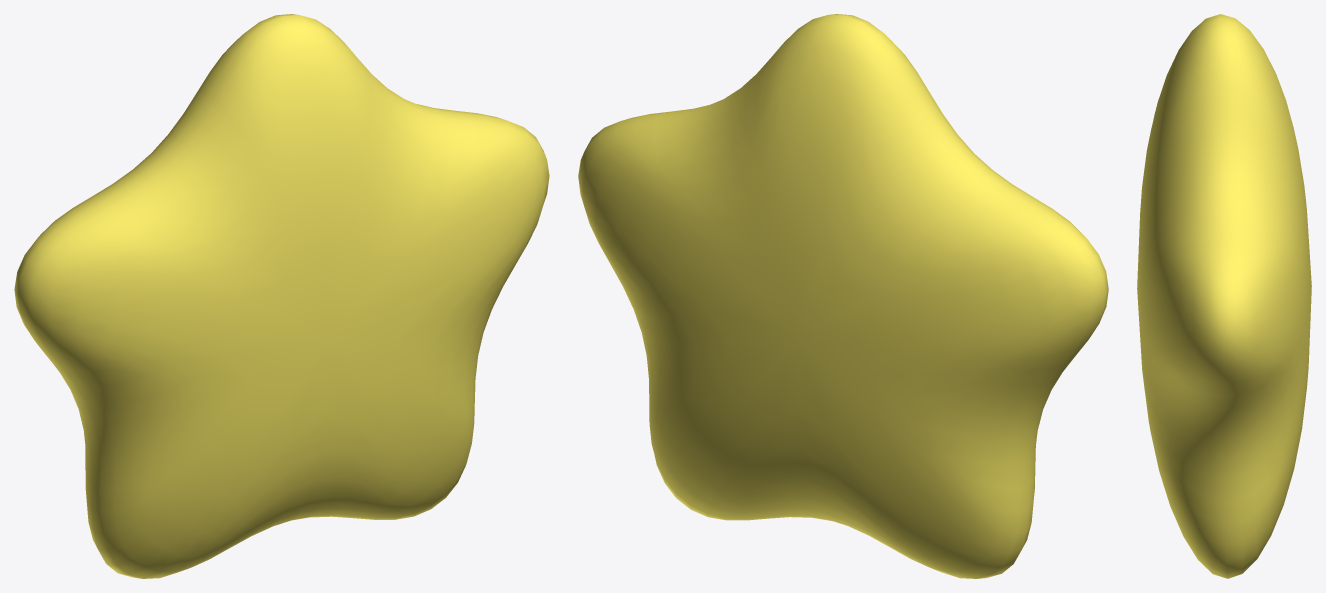
Rendered from starmain.glb.
The picture shows the model from 3 angles, left to right: view 1: azimuth 30°, elevation 25°; view 2: azimuth 150°, elevation 25°; view 3: azimuth 270°, elevation 25°; orthographic projection. The views are drawn at different scales.
Visible parts, largest first — view 1: Body.002; view 2: Body.002; view 3: Body.002.
Boxes of the visible parts, <box> form: Body.002: <box>14,14,549,578</box>; Body.002: <box>578,14,1108,578</box>; Body.002: <box>1137,14,1311,578</box>.
Size of the model in its own units: 0.0667 by 0.0641 by 0.0205.
